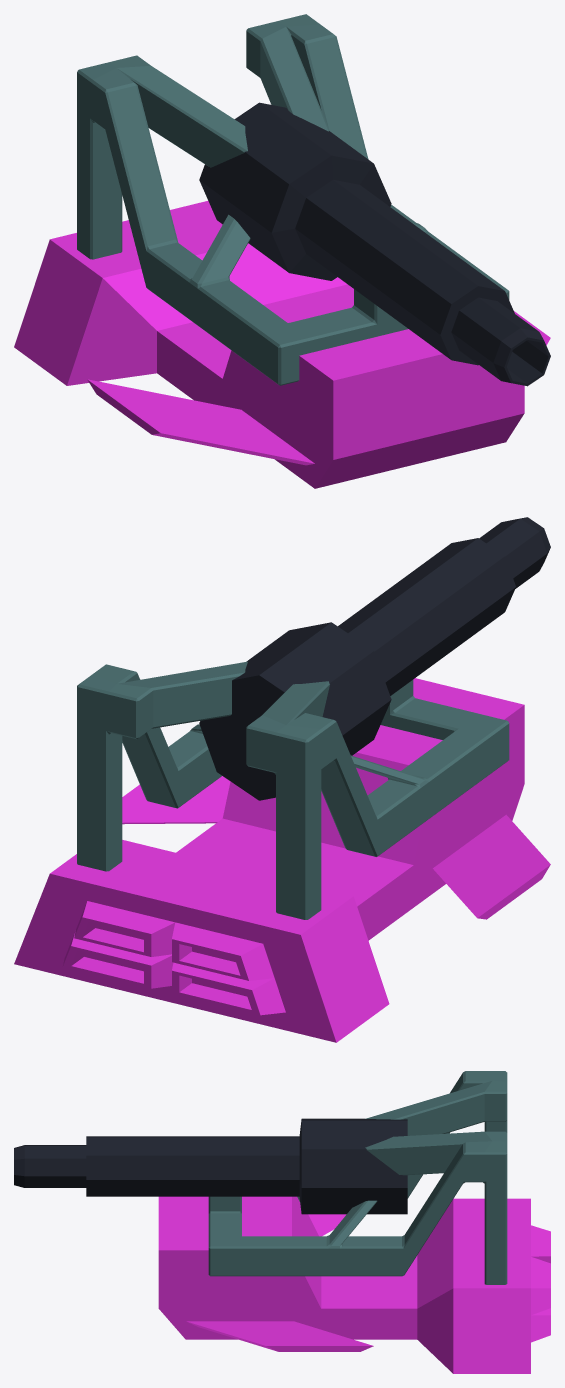
File: NPCB.fbx
The picture shows the model from 3 angles, top to bottom: view 1: azimuth 30°, elevation 25°; view 2: azimuth 150°, elevation 25°; view 3: azimuth 270°, elevation 25°; orthographic projection. The views are drawn at different scales.
Parts seen in each view (by area): view 1: Fuselage, Frame, Barrel; view 2: Fuselage, Frame, Barrel; view 3: Fuselage, Frame, Barrel.
Boxes of the visible parts, left/top/right/bottom form: Fuselage: left=14, top=201, right=550, bottom=488; Frame: left=77, top=14, right=509, bottom=385; Barrel: left=199, top=102, right=550, bottom=386; Fuselage: left=14, top=678, right=550, bottom=1042; Frame: left=77, top=661, right=509, bottom=919; Barrel: left=199, top=517, right=550, bottom=800; Fuselage: left=158, top=1196, right=550, bottom=1373; Frame: left=208, top=1071, right=507, bottom=1284; Barrel: left=14, top=1118, right=407, bottom=1214.
Bounding box in the file's own units: 1030 × 706 × 1673.
